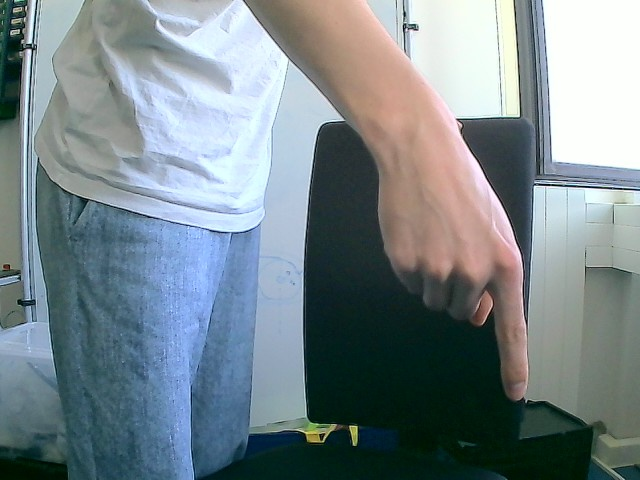down: (374, 128, 531, 403)
